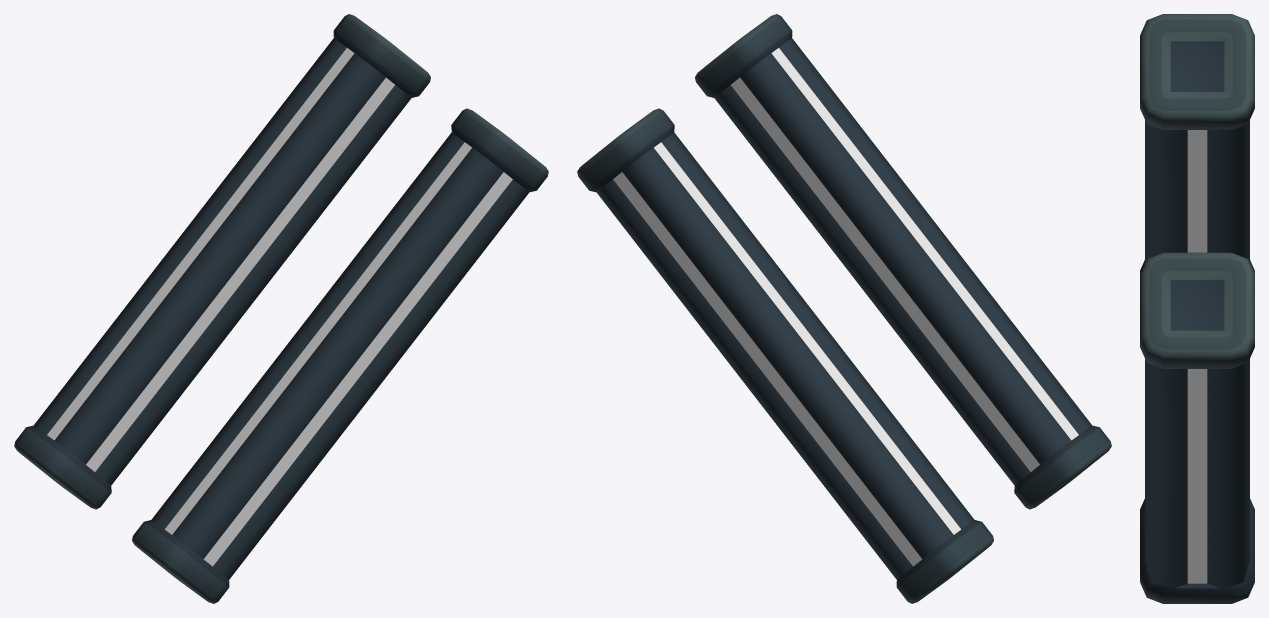
The model's file is Track_Vertical_Brass_Dia.fbx.
The picture shows the model from 3 angles, left to right: view 1: azimuth 30°, elevation 25°; view 2: azimuth 150°, elevation 25°; view 3: azimuth 270°, elevation 25°; orthographic projection. The views are drawn at different scales.
Visible parts, largest first — view 1: Track_Vertical_Brass_Dia_LOD0; view 2: Track_Vertical_Brass_Dia_LOD0; view 3: Track_Vertical_Brass_Dia_LOD0.
Part boxes in pixels (box(x1,y1,x2,y2)): Track_Vertical_Brass_Dia_LOD0: box(14, 14, 548, 603); Track_Vertical_Brass_Dia_LOD0: box(577, 14, 1111, 603); Track_Vertical_Brass_Dia_LOD0: box(1140, 14, 1254, 603).
Size of what is drawn, in the model's own units: 1.51 by 1.51 by 0.2263.
